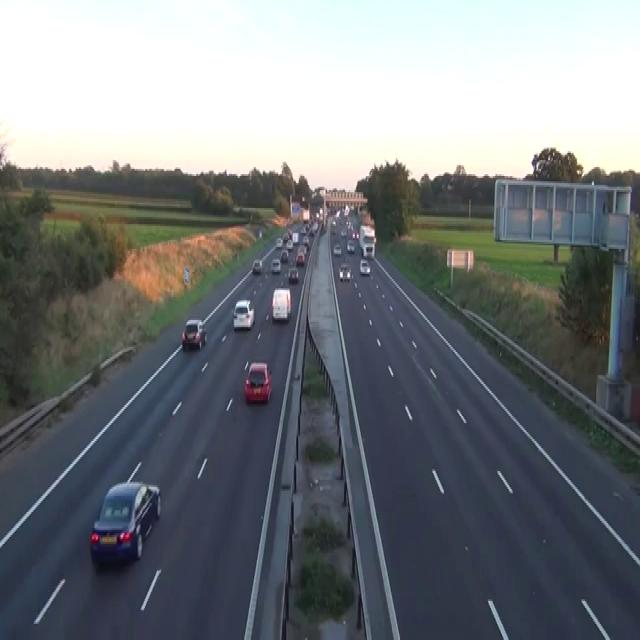Car: (90, 480, 161, 565), (244, 361, 271, 402), (181, 318, 206, 350), (232, 298, 254, 330), (271, 288, 291, 322), (339, 263, 352, 281), (359, 258, 370, 276), (287, 266, 299, 282), (362, 242, 374, 258), (270, 258, 281, 274), (252, 258, 262, 274), (365, 229, 375, 242), (296, 251, 305, 265), (332, 244, 342, 256), (346, 238, 354, 252), (280, 249, 288, 263), (330, 220, 336, 234), (302, 235, 309, 247), (286, 238, 293, 249), (275, 237, 282, 247), (282, 231, 288, 242), (340, 228, 346, 236), (352, 230, 358, 238), (258, 228, 262, 238), (287, 230, 292, 238), (309, 228, 314, 236)
Truck: (358, 224, 375, 258)
